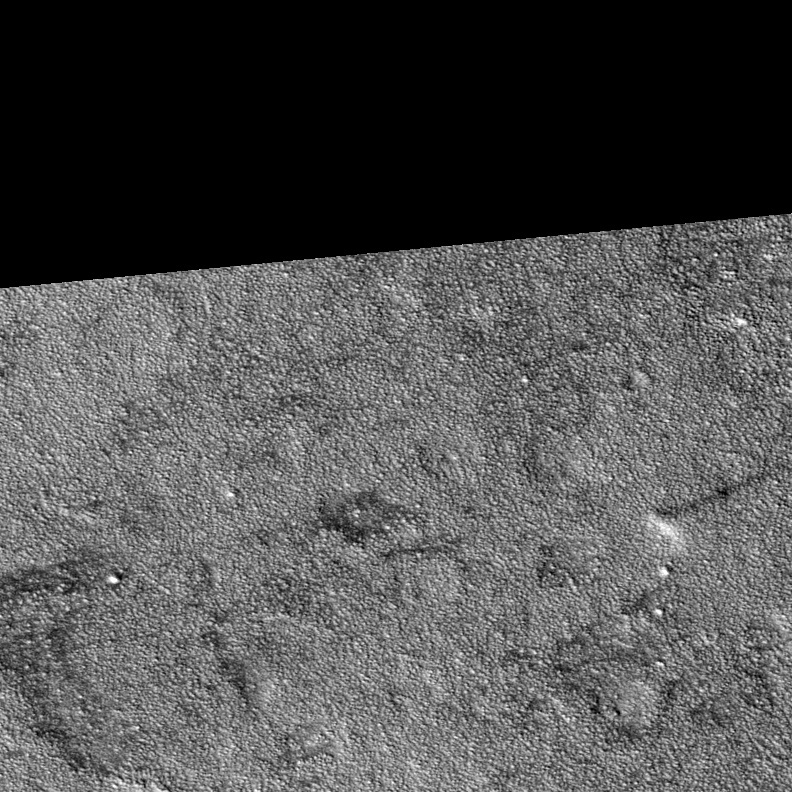dust_devil: (645, 458, 792, 554)
